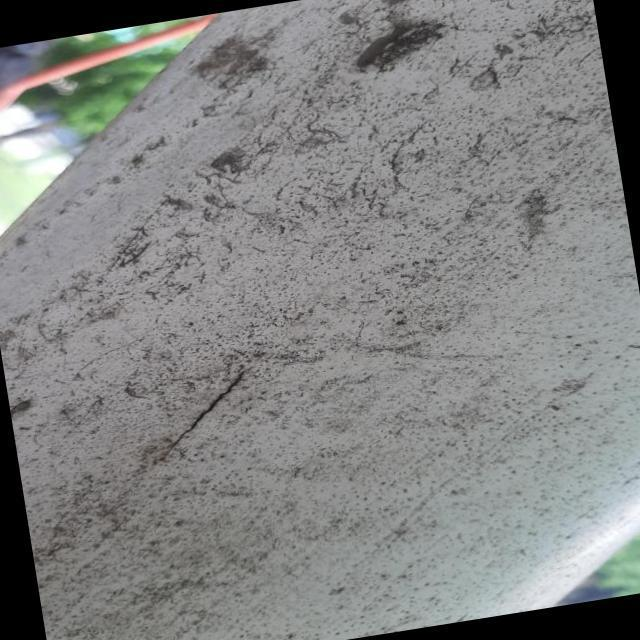defect: (160, 361, 259, 464)
